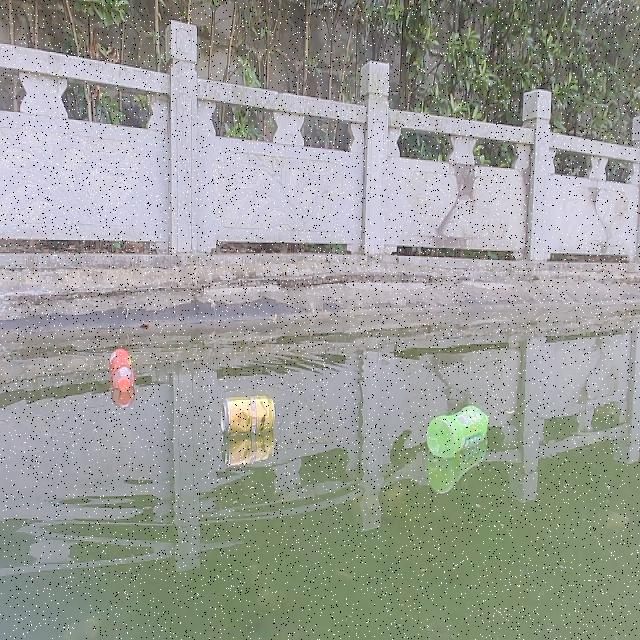Bottle: (423, 398, 491, 458), (97, 342, 141, 394)
Can: (216, 385, 276, 436)
